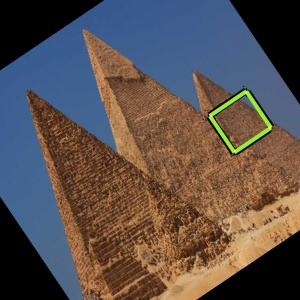square: (205, 87, 275, 156)
